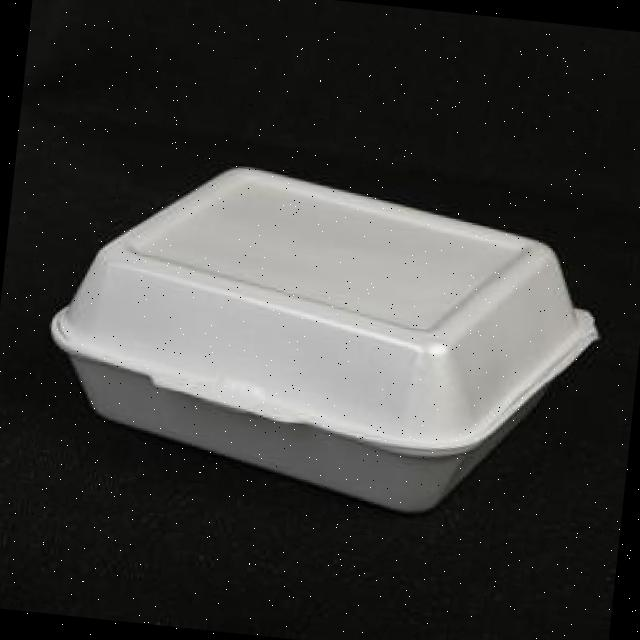styrofoam: (31, 143, 614, 532)
